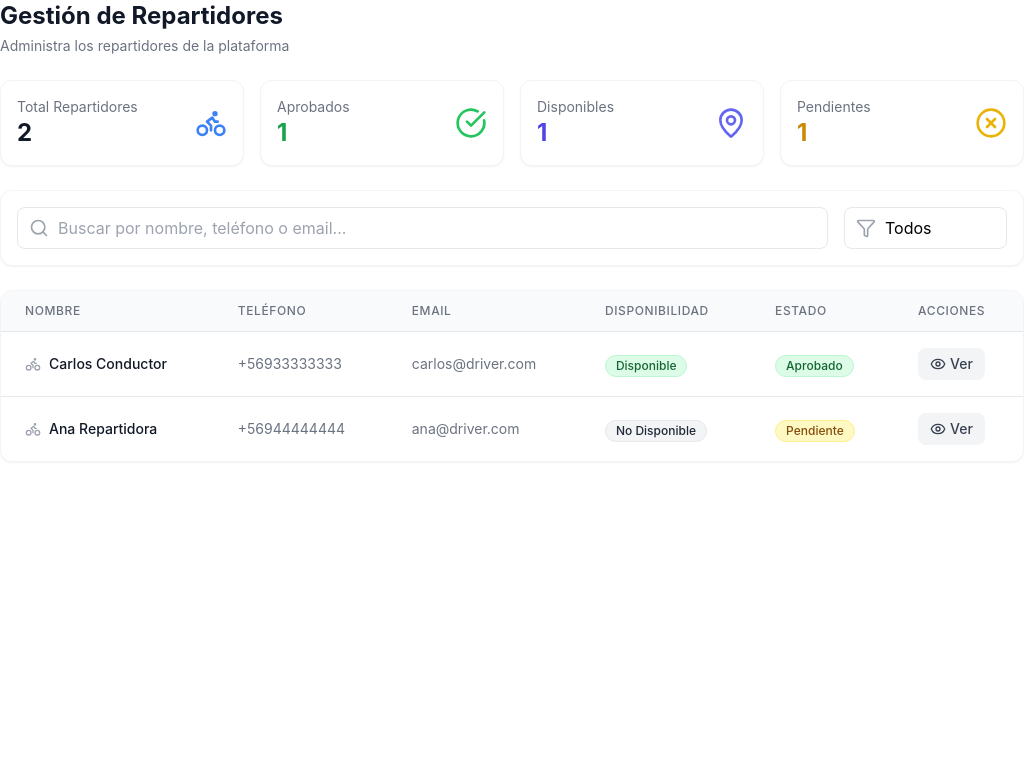
Drivers Component › Modal de detalle › debe mostrar botón de aprobar para repartidores pendientes
The width and height of the screenshot is (1024, 768).
Expected: the text "Ana Repartidora" is shown, left=49, top=419, right=157, bottom=439
Click the button "Ver" in the row of "Ana Repartidora" at x=952, y=429, box left=918, top=413, right=985, bottom=445
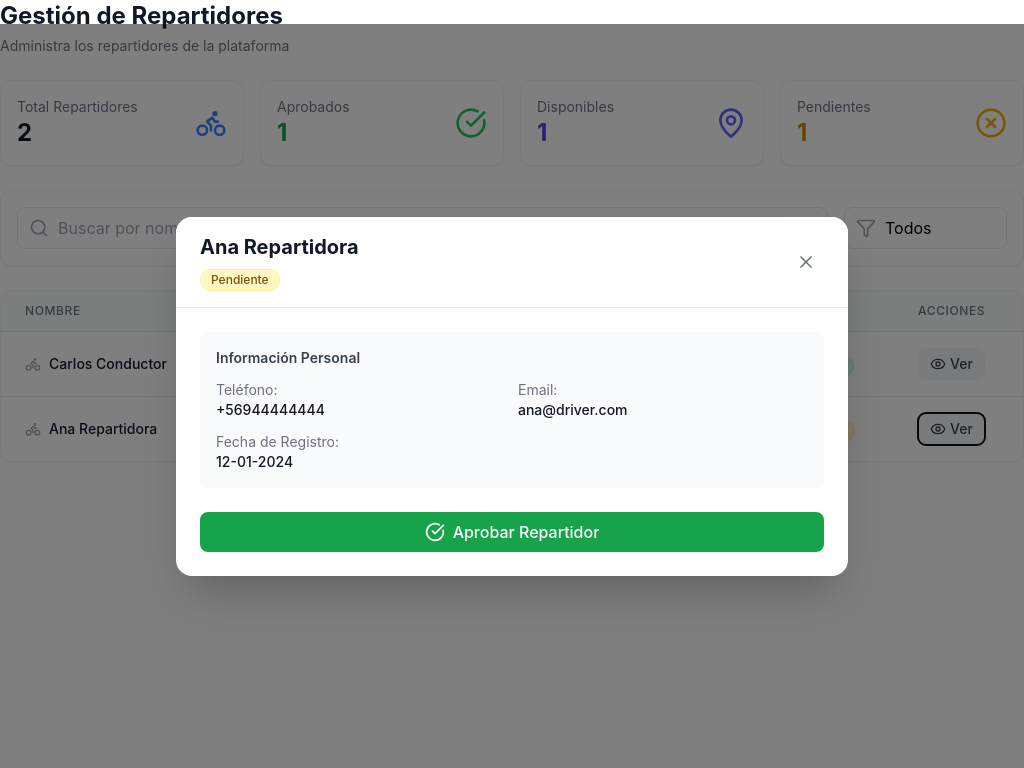
Expected: the button "Aprobar Repartidor" is shown, left=200, top=512, right=824, bottom=552
